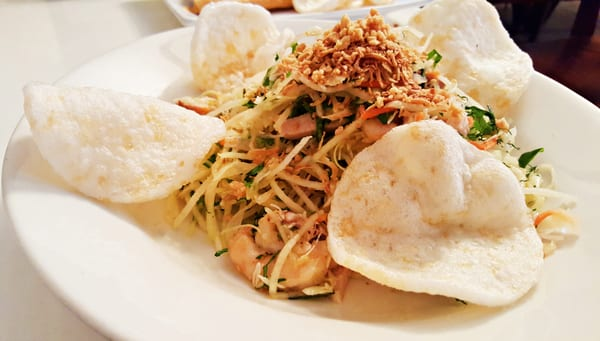soup: (326, 120, 547, 308)
